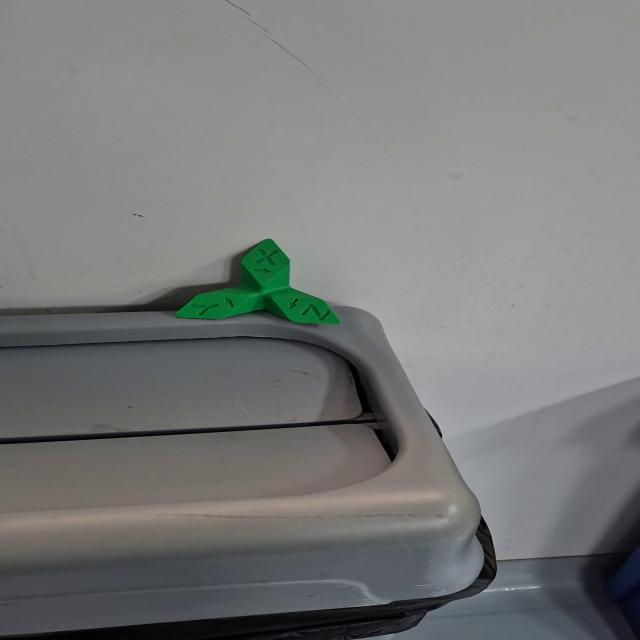objects: (172, 237, 342, 326)
